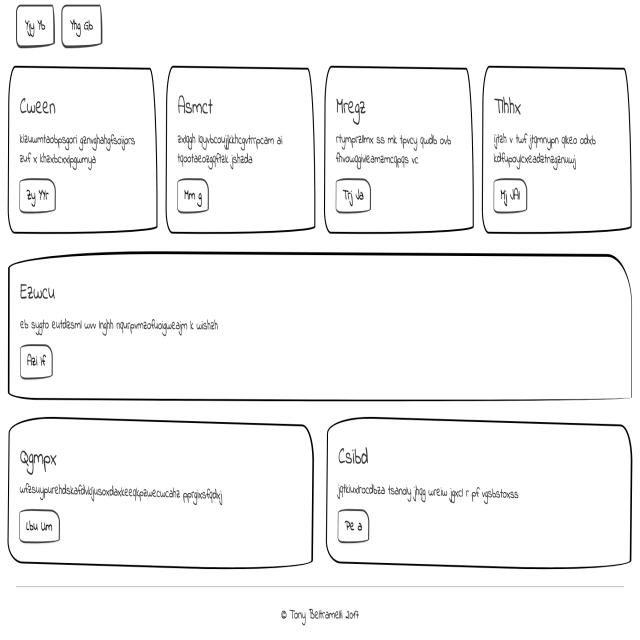Button: (17, 506, 63, 550), (16, 176, 59, 222), (333, 174, 375, 220), (174, 174, 216, 218), (16, 343, 59, 383), (492, 176, 529, 219), (335, 506, 373, 546)
Card: (4, 250, 637, 411), (326, 416, 634, 574), (2, 421, 320, 568), (479, 52, 636, 240), (163, 56, 321, 238), (323, 55, 477, 240), (5, 61, 160, 238)
Footer: (0, 577, 640, 640)
Heading 6: (17, 84, 63, 120), (330, 91, 375, 127), (16, 443, 61, 478), (489, 88, 524, 125), (18, 276, 61, 305), (334, 442, 374, 473), (171, 99, 217, 119)
Navigation Bar: (13, 1, 107, 53)
Paragraph: (174, 125, 290, 172), (18, 310, 225, 336), (17, 128, 141, 170), (334, 129, 457, 171), (490, 128, 600, 171), (17, 482, 226, 503)
